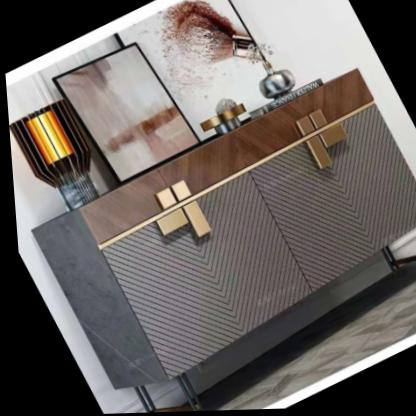Sideboard: (28, 72, 416, 413)
